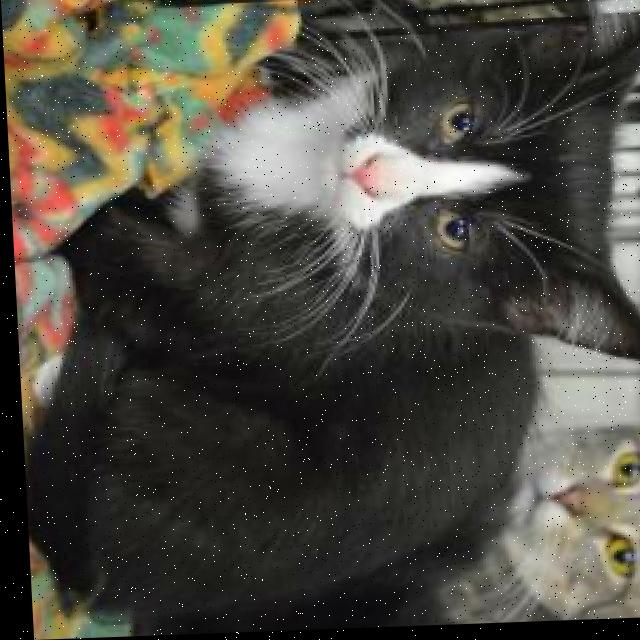Tuxedo: (1, 15, 640, 612)
